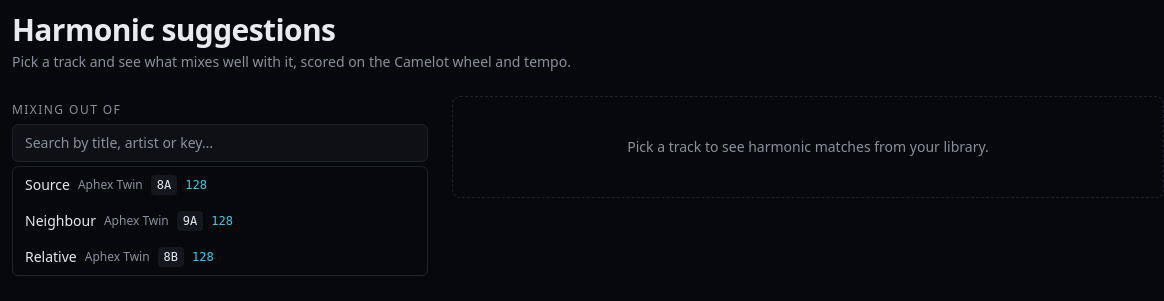
Suggestions › surfaces the backend's reason when a track cannot be matched
Step 1. Click the button "Source Aphex Twin 8A 128" → (47, 184), box [13, 167, 427, 203]
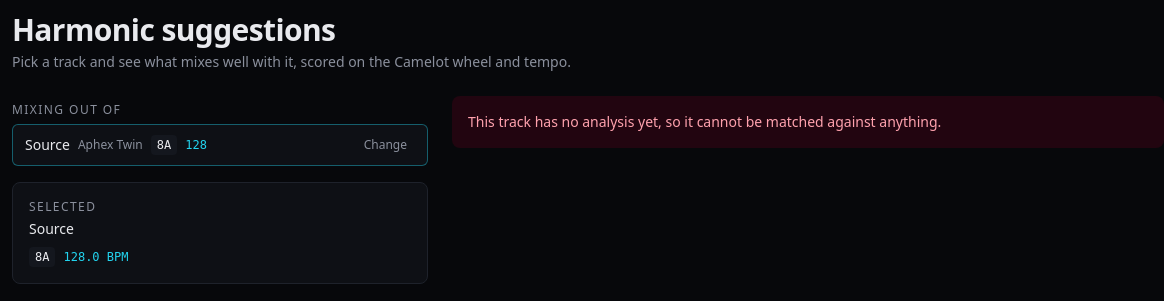
Expected: the message shows "no analysis yet", [468, 112, 941, 131]
